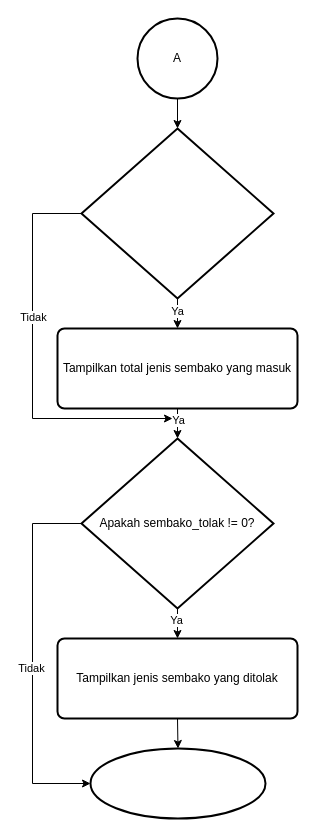
This 315x836 diagram has some shape labels left out. The box of each missing label's shape, as (x1, y1, x2, y2) in pixels:
Apakah sembako_masuk != 0?: (80, 127, 274, 299)
return: (89, 747, 266, 819)
